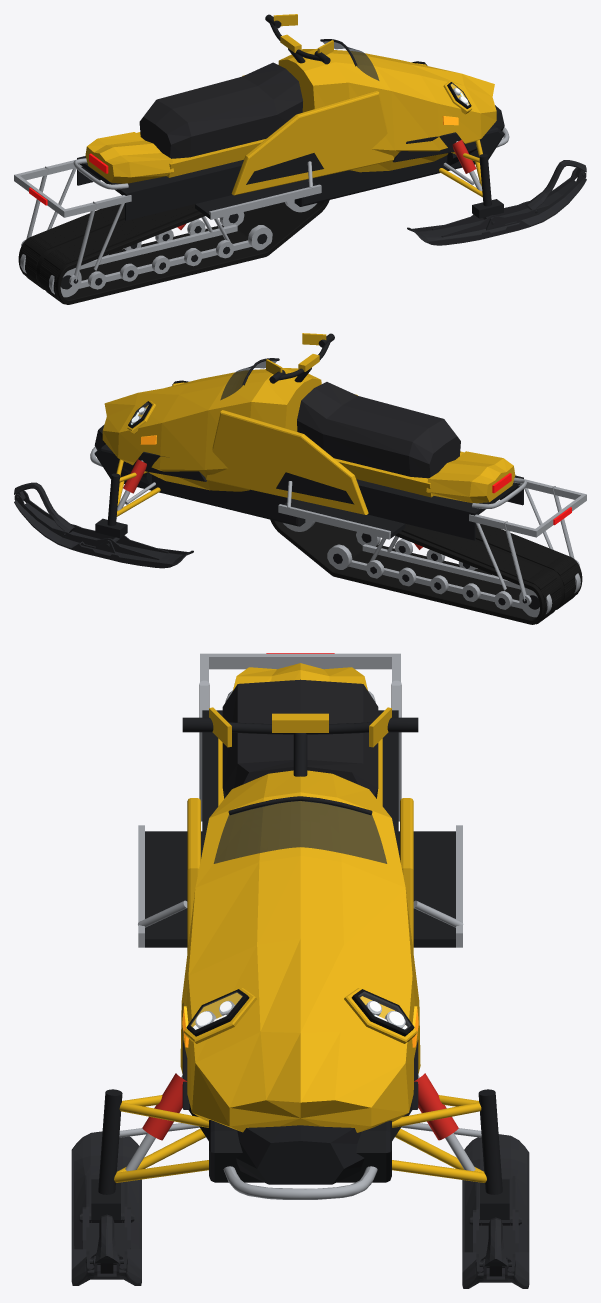
The model's file is quad_sled1000.glb.
3 renders of one model, top to bottom at view 1: azimuth 30°, elevation 25°; view 2: azimuth 150°, elevation 25°; view 3: azimuth 270°, elevation 25°, orthographic. The views are drawn at different scales.
Visible parts, largest first — view 1: hood, side_intake_left, seat, headlight_surround_left, track, headlight_projector_ring_high_left, idler_front_wheel_left, ski_left, track_lug_0l, track_lug_0l_p5, track_lug_0l_p2, track_lug_0l_p1 (+8 smaller); view 2: hood, side_intake_left, seat, headlight_surround_left, track, headlight_projector_ring_high_left, idler_front_wheel_left, ski_right, track_lug_0l, track_lug_0l_p5, track_lug_0l_p2, track_lug_0l_p1 (+8 smaller); view 3: hood, side_intake_left, seat, headlight_projector_ring_high_left, headlight_surround_left, ski_left, ski_right, windshield, front_fascia, ski_saddle_right, ski_saddle_left, steering_post (+4 smaller).
Part boxes in pixels (x1,y1,x2,y2): hood: (85, 49, 496, 183); side_intake_left: (73, 39, 504, 283); seat: (139, 62, 302, 158); headlight_surround_left: (231, 63, 482, 197); track: (18, 200, 329, 304); headlight_projector_ring_high_left: (14, 88, 509, 286); idler_front_wheel_left: (20, 212, 272, 297); ski_left: (407, 160, 586, 245); track_lug_0l: (19, 204, 194, 304); track_lug_0l_p5: (20, 204, 194, 299); track_lug_0l_p2: (20, 204, 198, 302); track_lug_0l_p1: (20, 204, 196, 303); hood: (102, 368, 515, 503); side_intake_left: (94, 358, 526, 603); seat: (297, 382, 460, 478); headlight_surround_left: (116, 382, 368, 516); track: (270, 519, 582, 624); headlight_projector_ring_high_left: (90, 407, 586, 606); idler_front_wheel_left: (327, 532, 580, 617); ski_right: (14, 482, 193, 568); track_lug_0l: (405, 524, 581, 624); track_lug_0l_p5: (405, 524, 580, 619); track_lug_0l_p2: (401, 523, 580, 622); track_lug_0l_p1: (403, 525, 580, 623); hood: (180, 663, 420, 1132); side_intake_left: (145, 710, 455, 1182); seat: (222, 679, 378, 798); headlight_projector_ring_high_left: (119, 653, 481, 1199); headlight_surround_left: (114, 798, 486, 1182); ski_left: (71, 1131, 141, 1285); ski_right: (462, 1134, 529, 1288); windshield: (213, 801, 387, 863); front_fascia: (188, 1104, 412, 1184); ski_saddle_right: (478, 1089, 509, 1219); ski_saddle_left: (91, 1089, 122, 1219); steering_post: (182, 717, 418, 776).
Bounding box in the file's own units: 3.04 × 1.16 × 1.2.
